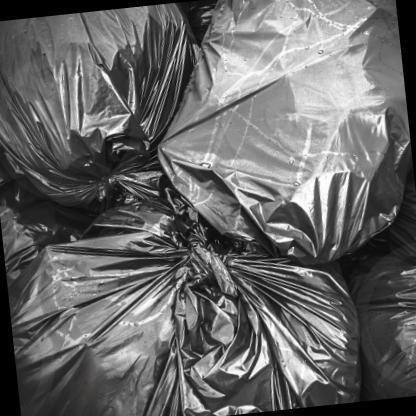Garbage: (3, 211, 360, 415), (148, 0, 415, 267), (0, 0, 232, 223), (343, 220, 415, 401)
